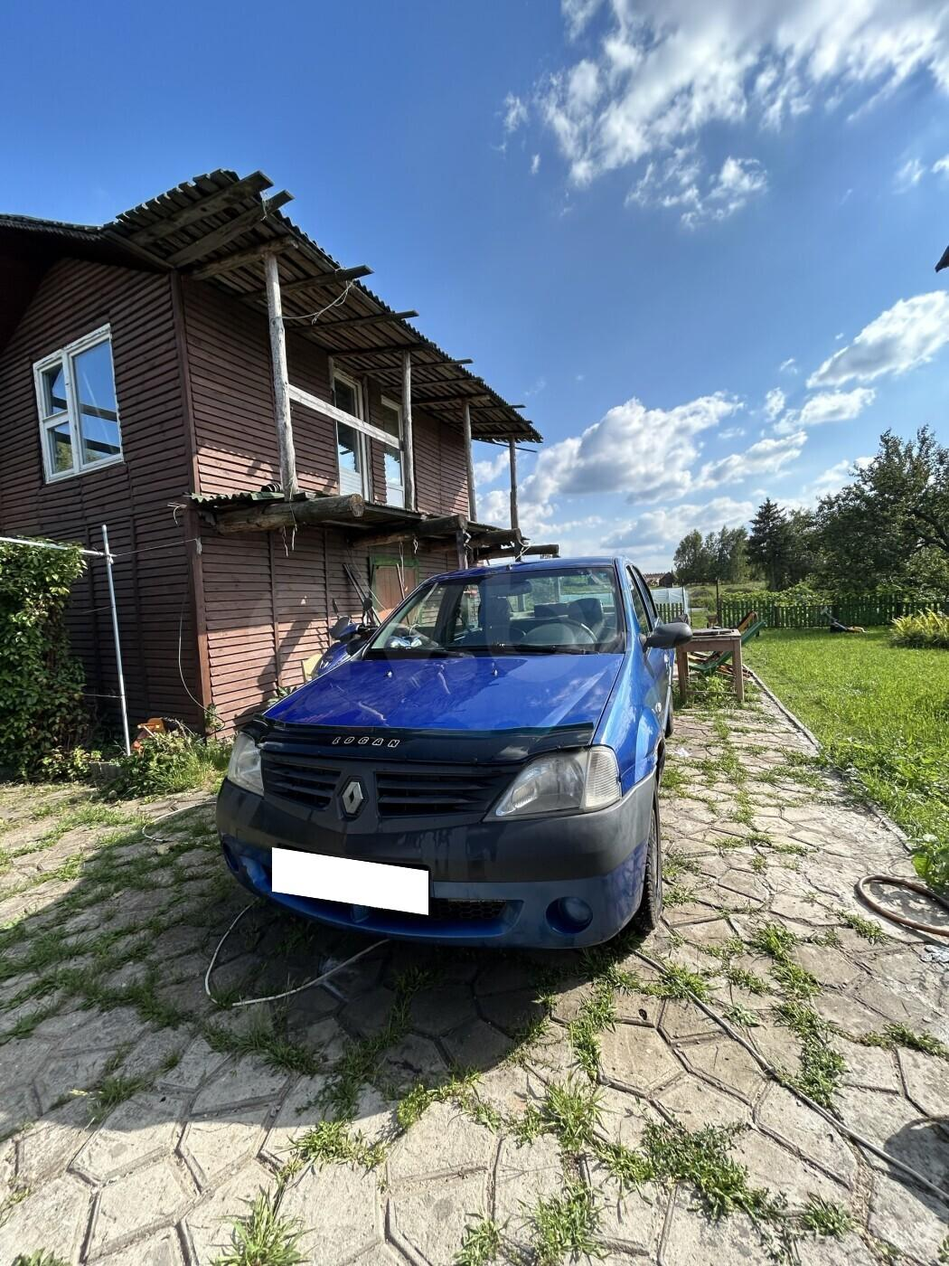Logan_2004-2009: (222, 552, 689, 968)
